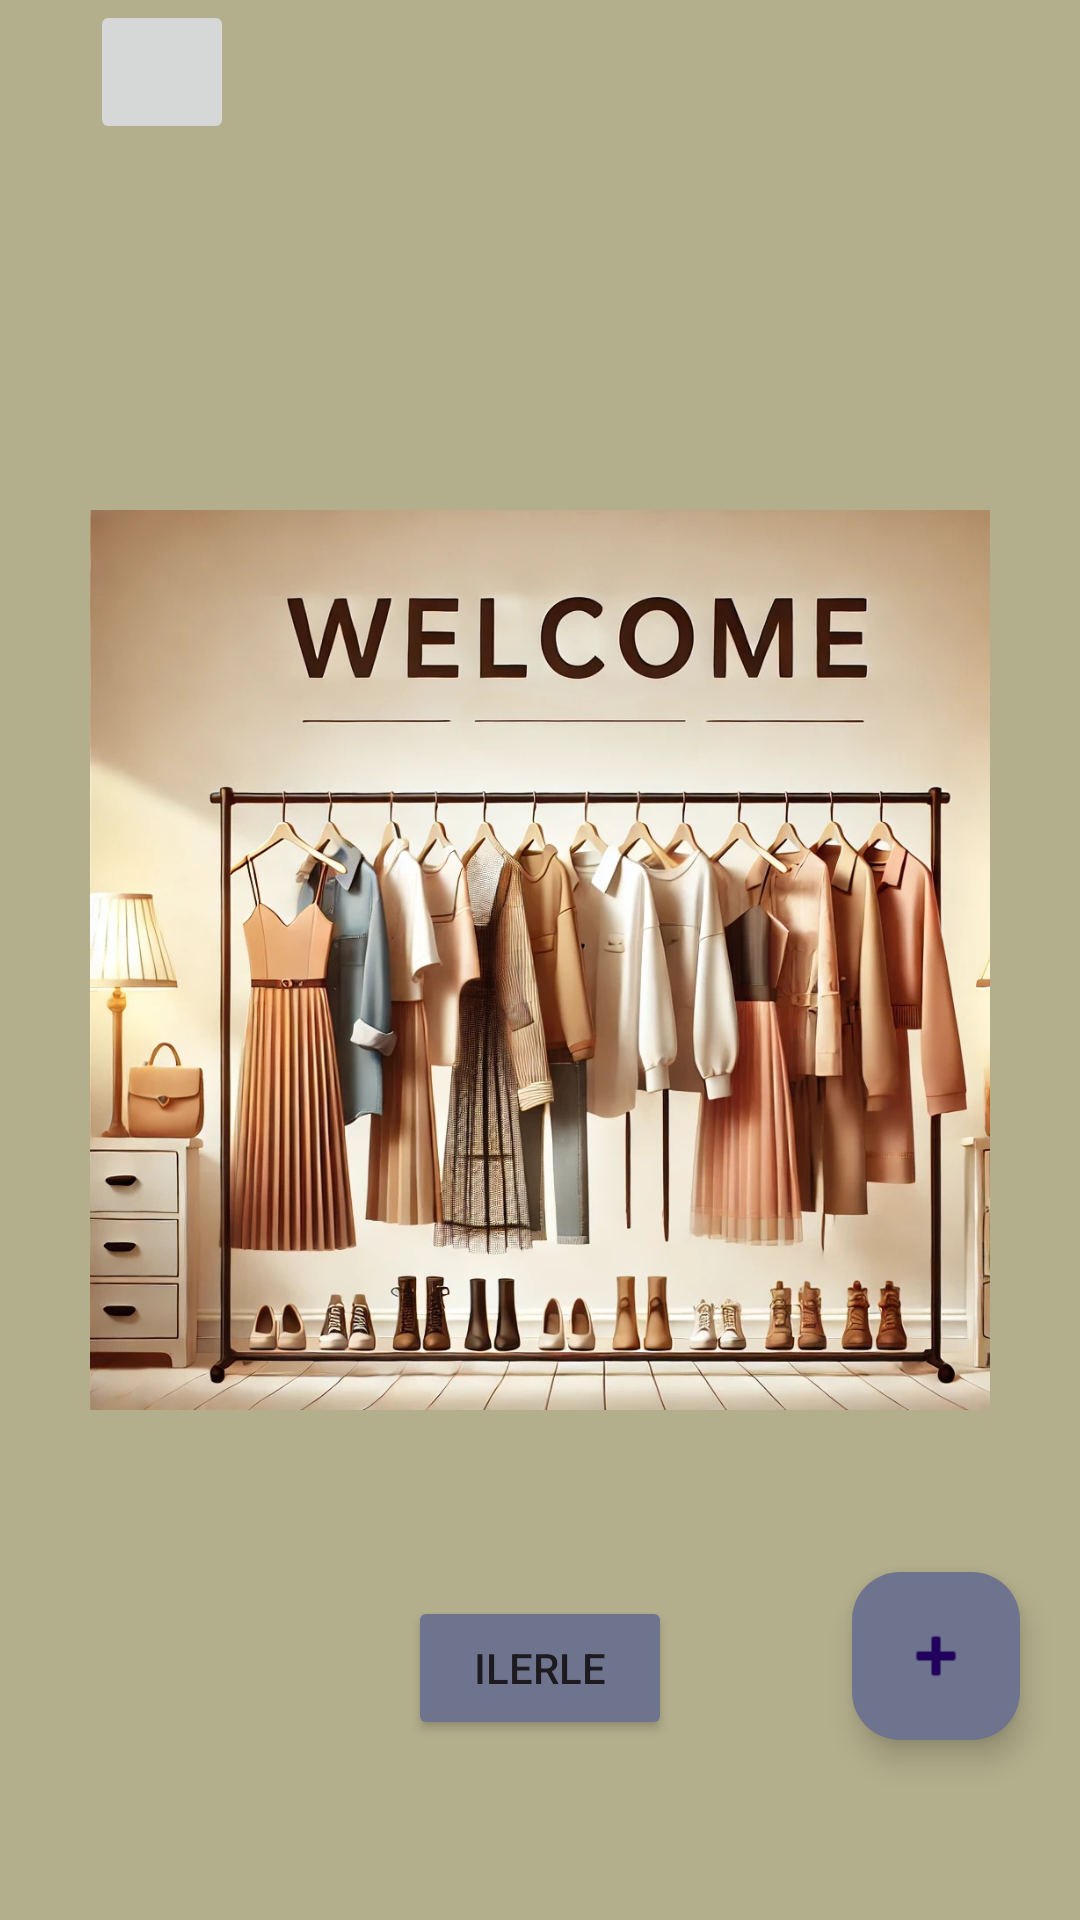

Icons on this 1080px x 1920px Android screen, each with its box as (x1, y1, x2, y2):
add: (852, 1572, 1020, 1740)
